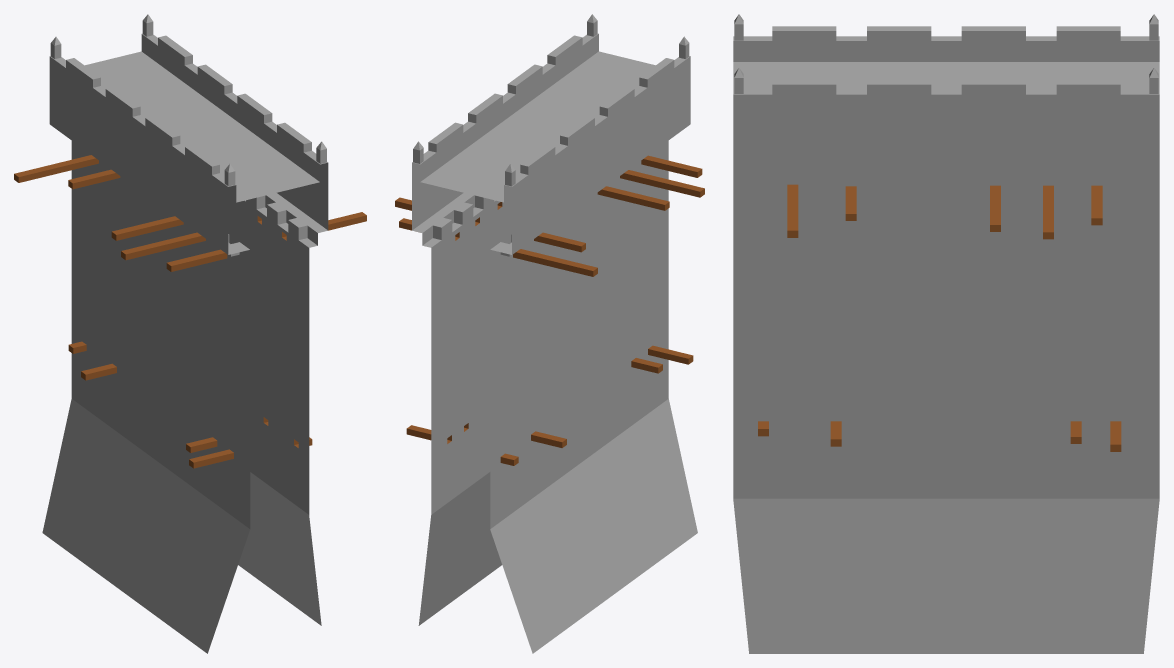
Rendered from Castle_New_Wall_Eastern_Section_05.fbx.
3 renders of one model, left to right at view 1: azimuth 30°, elevation 25°; view 2: azimuth 150°, elevation 25°; view 3: azimuth 270°, elevation 25°, orthographic. The views are drawn at different scales.
Parts seen in each view (by area): view 1: Model; view 2: Model; view 3: Model.
Boxes of the visible parts, bbox=[...] form: Model: bbox=[14, 14, 366, 653]; Model: bbox=[395, 14, 704, 653]; Model: bbox=[733, 14, 1159, 653].
Size of the model in its own units: 919 by 1956 by 1295.
